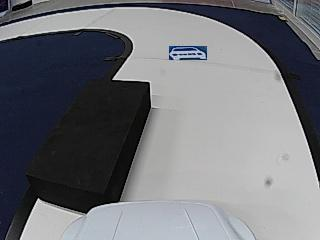block: (30, 79, 150, 207)
